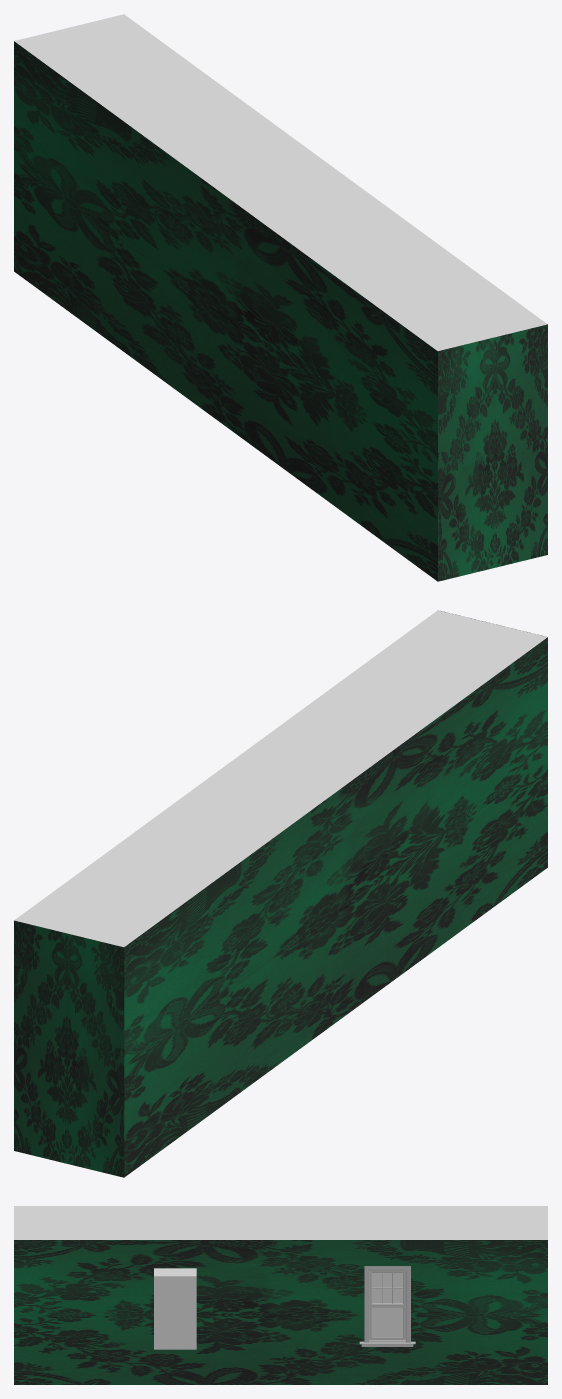
Rendered from room.dae.
3 renders of one model, top to bottom at view 1: azimuth 30°, elevation 25°; view 2: azimuth 150°, elevation 25°; view 3: azimuth 270°, elevation 25°, orthographic. The views are drawn at different scales.
Visible parts, largest first — view 1: Walls.000, Ceiling, Walls.002; view 2: Walls.000, Ceiling, Walls.004; view 3: Walls.001, Ceiling, Window, Cube.
Boxes of the visible parts, box(x1,y1,x2,y2) form: Walls.000: box(14, 41, 437, 581); Ceiling: box(14, 14, 547, 350); Walls.002: box(438, 324, 547, 581); Walls.000: box(124, 637, 547, 1177); Ceiling: box(14, 610, 547, 947); Walls.004: box(14, 920, 124, 1177); Walls.001: box(14, 1240, 547, 1384); Ceiling: box(14, 1206, 547, 1239); Window: box(359, 1266, 415, 1346); Cube: box(154, 1268, 196, 1349).
Bounding box in the file's own units: 1.85 × 10 × 3.
